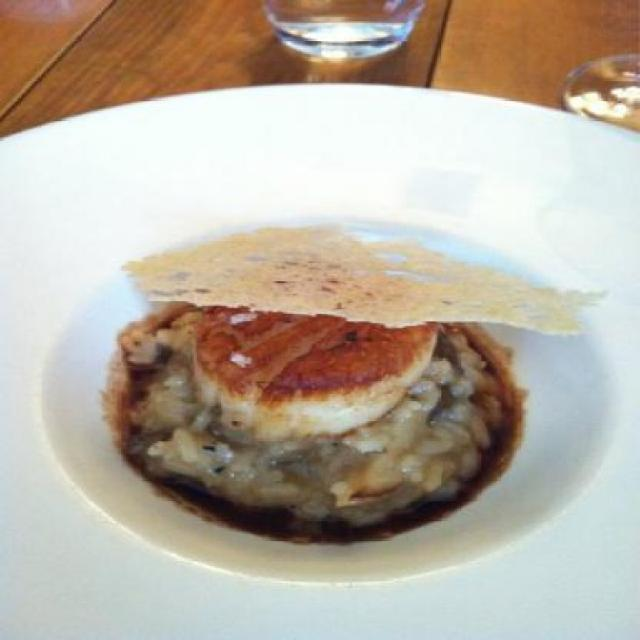Risotto: (99, 294, 558, 530)
